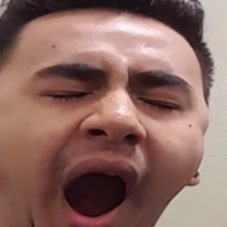drowsy: (30, 50, 197, 227)
